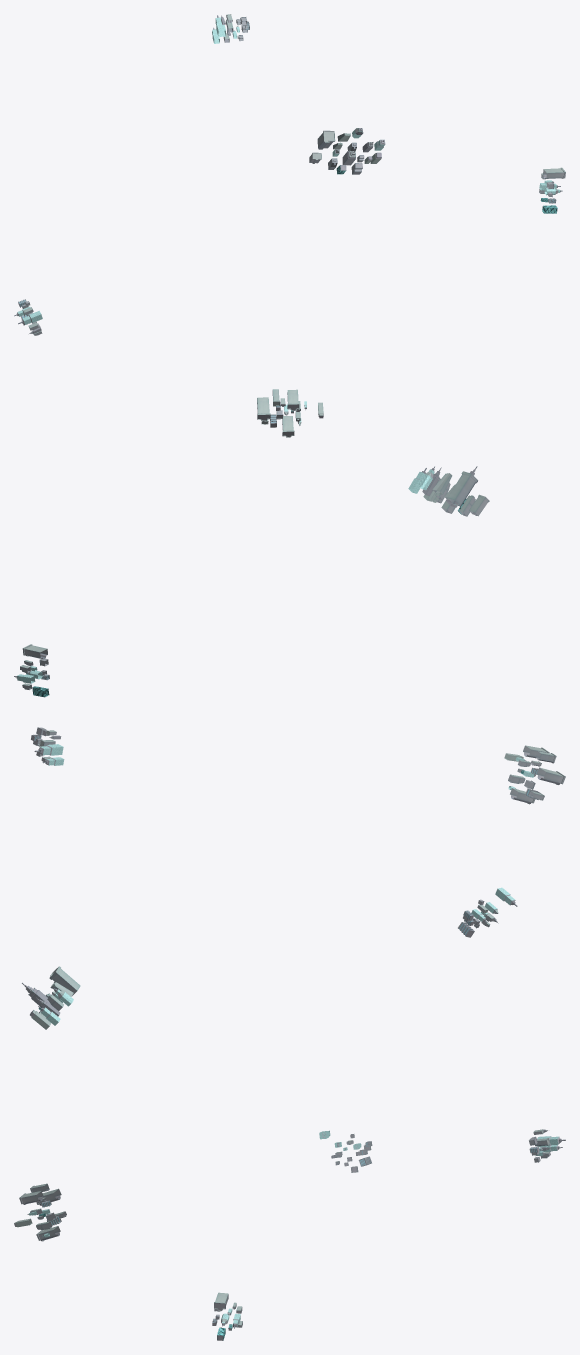
File: Asset_Buildings.fbx
3 renders of one model, top to bottom at view 1: azimuth 30°, elevation 25°; view 2: azimuth 150°, elevation 25°; view 3: azimuth 270°, elevation 25°, orthographic. The views are drawn at different scales.
Parts seen in each view (by area): view 1: Asset_Buildings; view 2: Asset_Buildings; view 3: Asset_Buildings.
Boxes of the visible parts, left/top/right/bottom form: Asset_Buildings: left=14, top=14, right=565, bottom=437; Asset_Buildings: left=14, top=466, right=565, bottom=937; Asset_Buildings: left=14, top=966, right=565, bottom=1340.
Bounding box in the file's own units: 17.62 × 9.86 × 16.63.
1 material, 1 textured.
